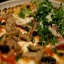olives: (40, 54, 58, 64), (1, 44, 11, 54), (22, 23, 31, 34), (30, 29, 40, 38), (1, 22, 7, 28)
pizza: (1, 2, 64, 64)
